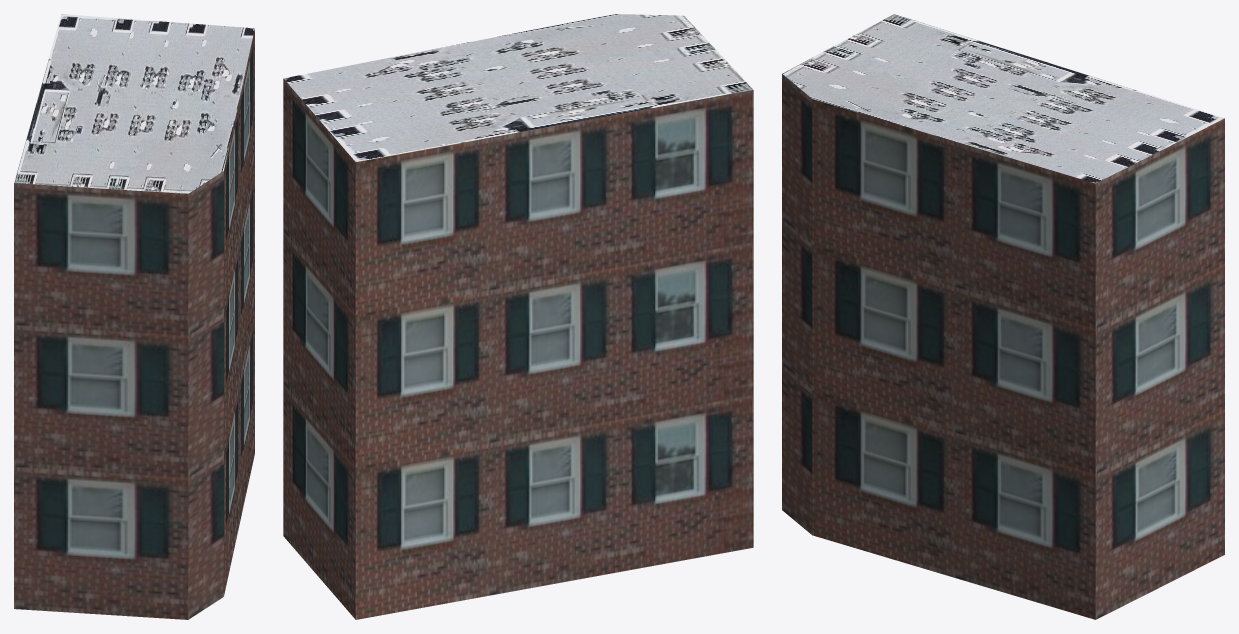
File: ResTex__3530.fbx
The picture shows the model from 3 angles, left to right: view 1: azimuth 30°, elevation 25°; view 2: azimuth 150°, elevation 25°; view 3: azimuth 270°, elevation 25°; orthographic projection. The views are drawn at different scales.
Visible parts, largest first — view 1: CityEngineMaterial_14_m, CityEngineMaterial_2_m; view 2: CityEngineMaterial_14_m, CityEngineMaterial_2_m; view 3: CityEngineMaterial_14_m, CityEngineMaterial_2_m.
Part boxes in pixels (<box>): CityEngineMaterial_14_m: <box>14,29,254,619</box>; CityEngineMaterial_2_m: <box>14,14,254,193</box>; CityEngineMaterial_14_m: <box>283,79,753,619</box>; CityEngineMaterial_2_m: <box>283,14,752,161</box>; CityEngineMaterial_14_m: <box>782,74,1224,619</box>; CityEngineMaterial_2_m: <box>782,14,1224,183</box>.
Size of the model in its own units: 7.5 by 9 by 8.28.
Materials: 2 (2 with a texture image).
